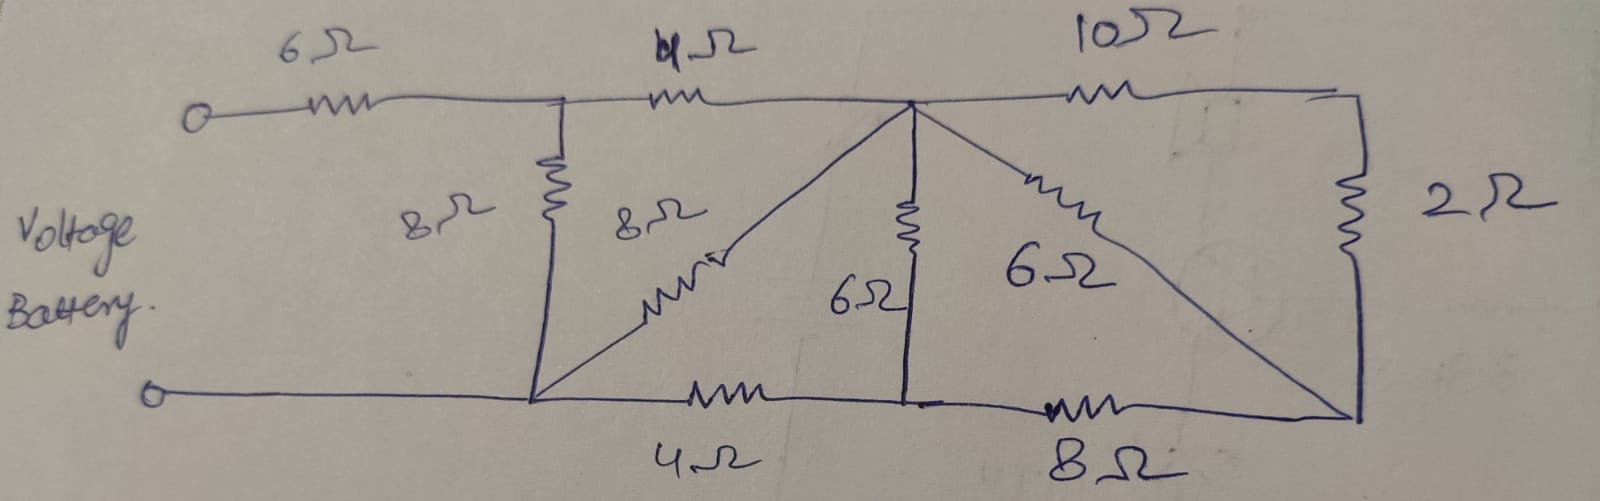junction: (543, 90, 583, 122), (884, 388, 935, 411), (894, 94, 931, 122), (1345, 85, 1373, 110), (522, 388, 543, 411), (1347, 410, 1368, 430)
resistor: (638, 251, 724, 329), (1024, 168, 1113, 243), (1334, 163, 1369, 259), (1064, 76, 1151, 109), (536, 150, 574, 223), (302, 86, 382, 119), (1041, 392, 1124, 423), (642, 80, 718, 112), (895, 185, 927, 255), (688, 381, 767, 408)
terminal: (137, 378, 173, 413), (178, 101, 217, 134)
text: (3, 207, 147, 351), (1070, 1, 1217, 52), (1047, 434, 1190, 486), (1426, 170, 1560, 222), (1002, 238, 1118, 293), (401, 189, 491, 251), (651, 26, 759, 71), (651, 437, 766, 475), (824, 270, 914, 318), (614, 195, 692, 250), (278, 22, 380, 62)
